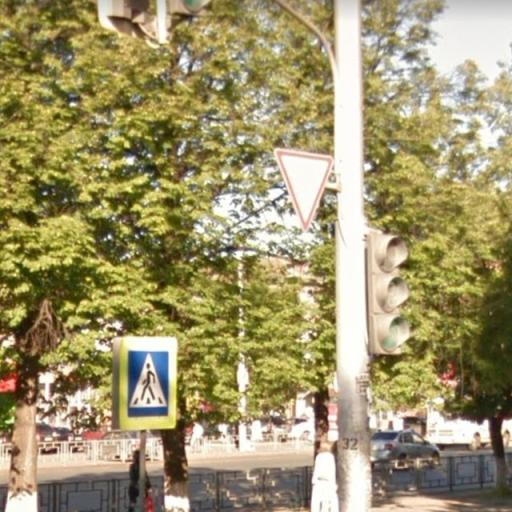traffic_sign: (272, 141, 341, 236), (116, 334, 180, 435)
